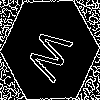W: (25, 25, 80, 89)
